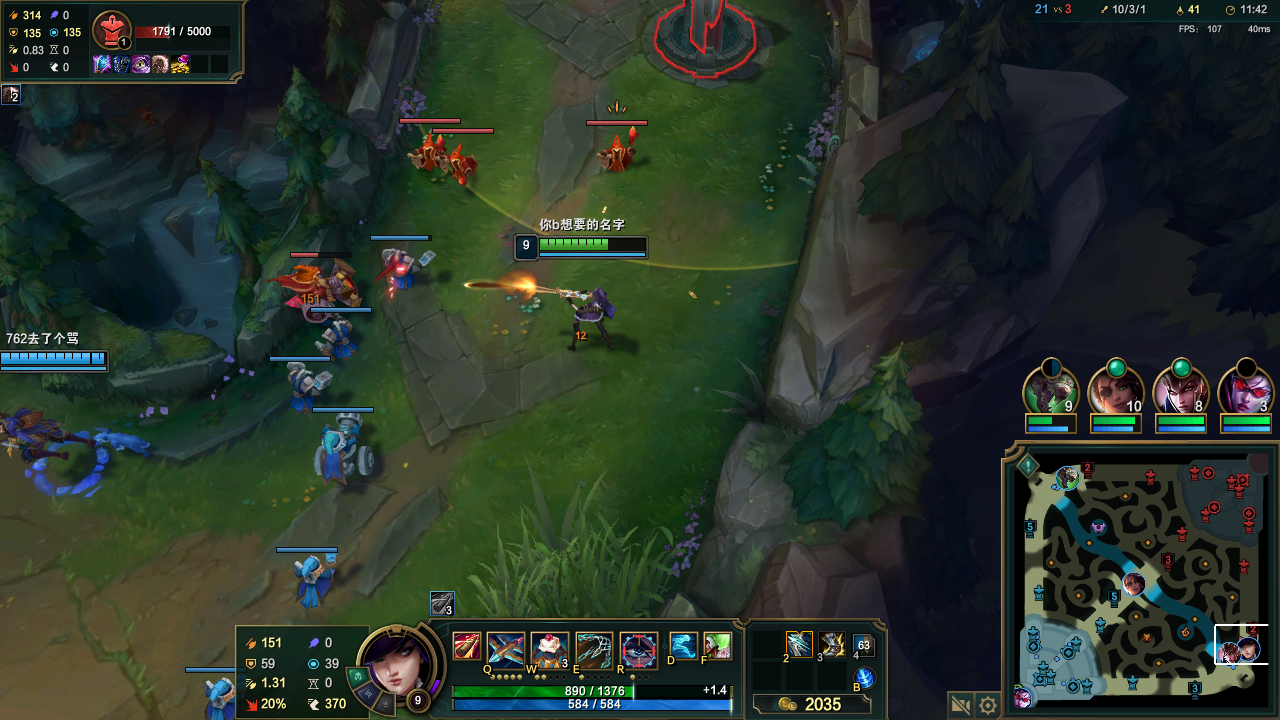DFFYT: (652, 2, 771, 88)
DFXB: (284, 263, 345, 314), (441, 145, 484, 186), (594, 136, 635, 179), (400, 136, 437, 167)
KF: (790, 636, 810, 649)
WFXB: (317, 403, 380, 490), (284, 551, 347, 600), (381, 255, 434, 295), (282, 370, 317, 397), (319, 327, 356, 351), (197, 680, 224, 703)
